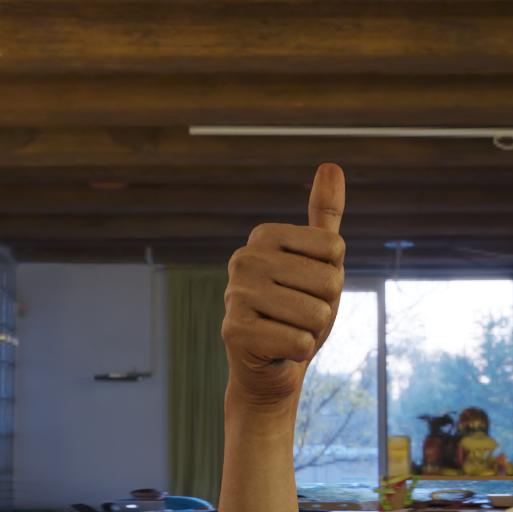thumbs-up: (217, 154, 350, 394)
